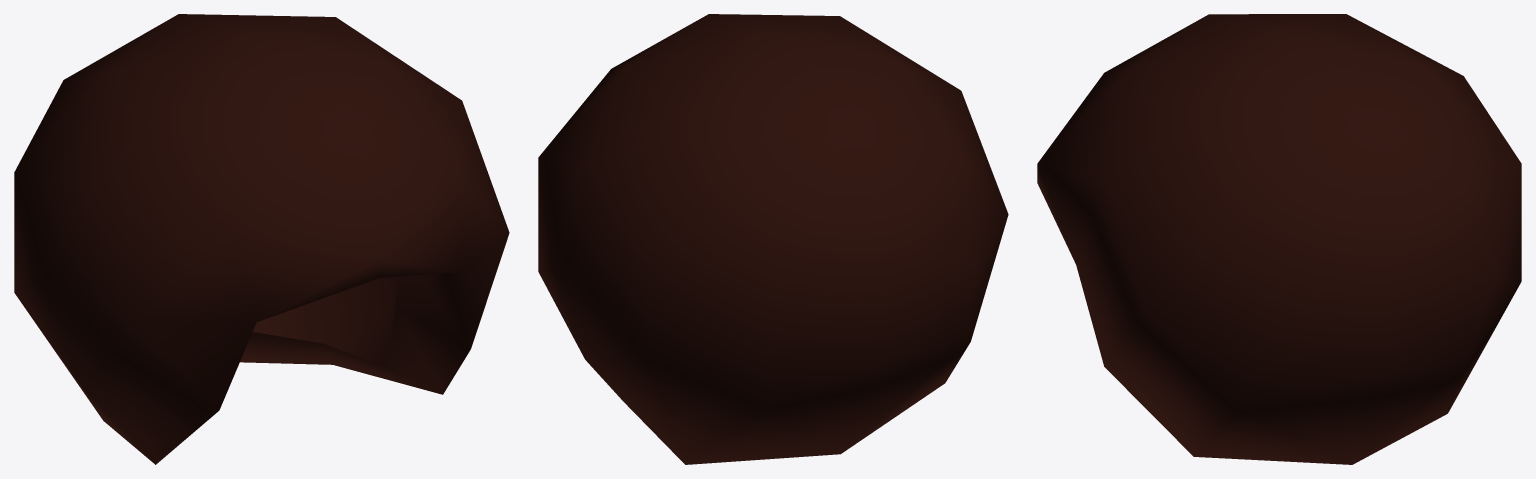
File: Hair04.FBX
3 renders of one model, left to right at view 1: azimuth 30°, elevation 25°; view 2: azimuth 150°, elevation 25°; view 3: azimuth 270°, elevation 25°, orthographic. The views are drawn at different scales.
Parts seen in each view (by area): view 1: Hair04; view 2: Hair04; view 3: Hair04.
Part boxes in pixels (left/top/right/bottom): Hair04: left=14, top=14, right=509, bottom=464; Hair04: left=538, top=14, right=1008, bottom=464; Hair04: left=1037, top=14, right=1521, bottom=464.
Bounding box in the file's own units: 602 × 515 × 593.
